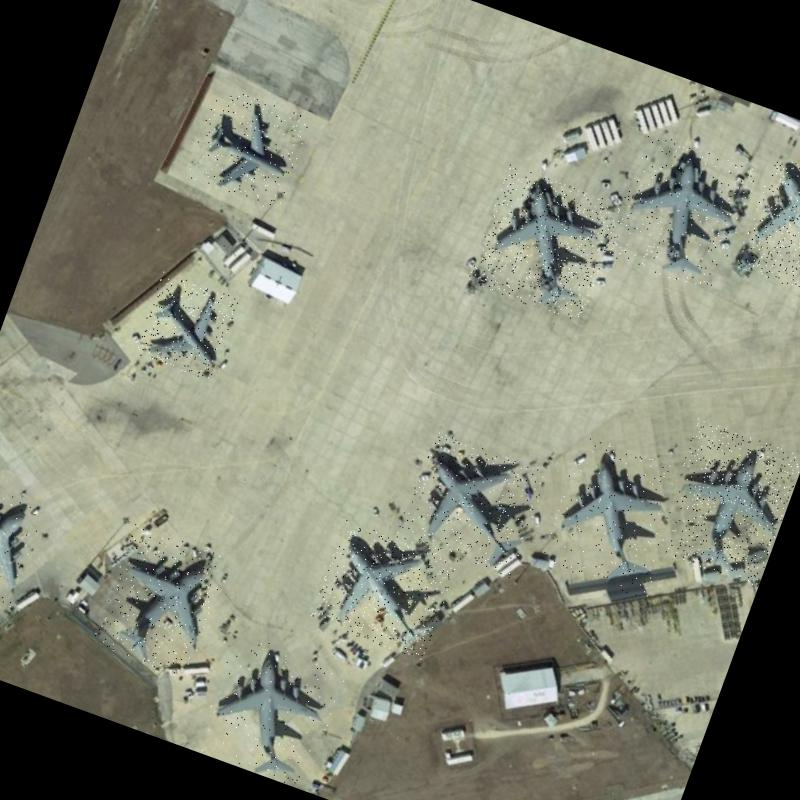A14: (184, 84, 311, 212), (133, 272, 239, 380)
A3: (602, 130, 759, 294), (538, 434, 693, 600), (650, 418, 800, 587), (466, 164, 622, 324), (194, 630, 347, 790), (395, 430, 548, 578), (91, 524, 230, 678), (308, 520, 458, 660), (733, 155, 800, 304), (0, 472, 46, 616)
